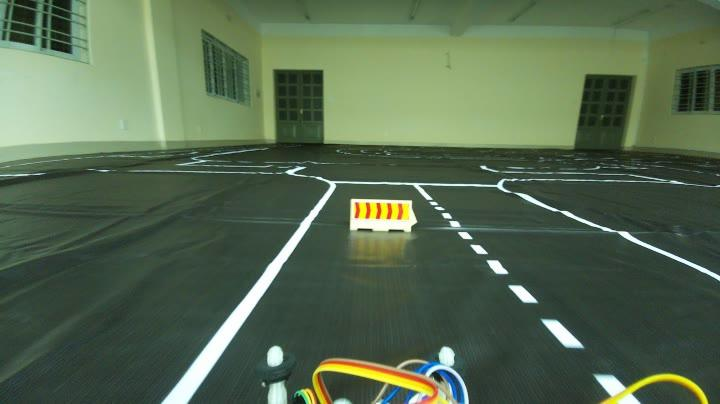roadblock: (346, 193, 420, 242)
